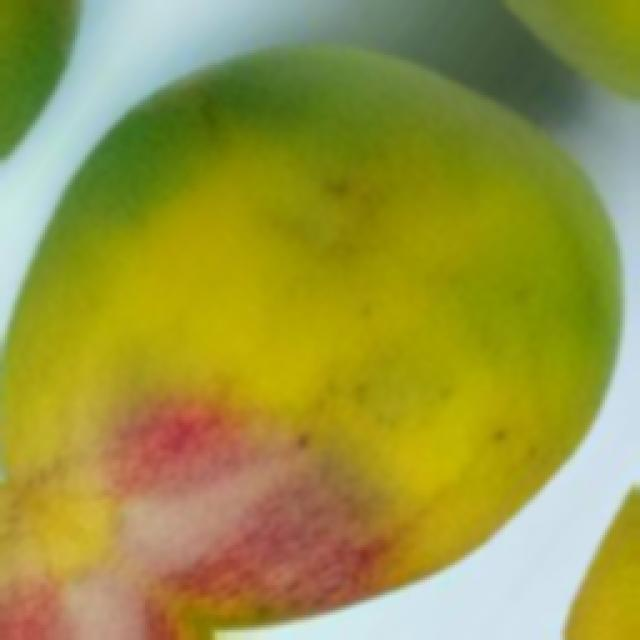defective: (0, 38, 625, 638)
